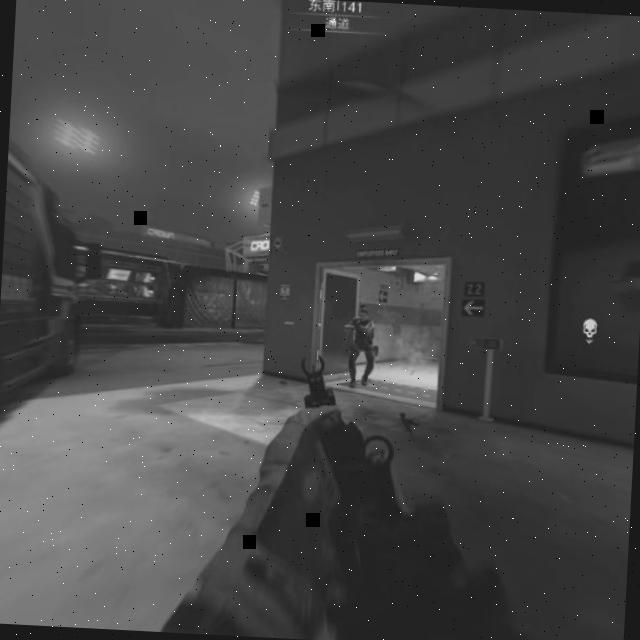MW2_body: (342, 306, 378, 389)
